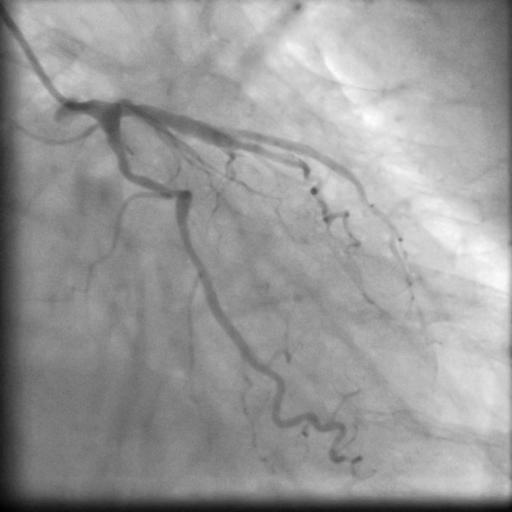Stenosis: (144, 170, 182, 204)
